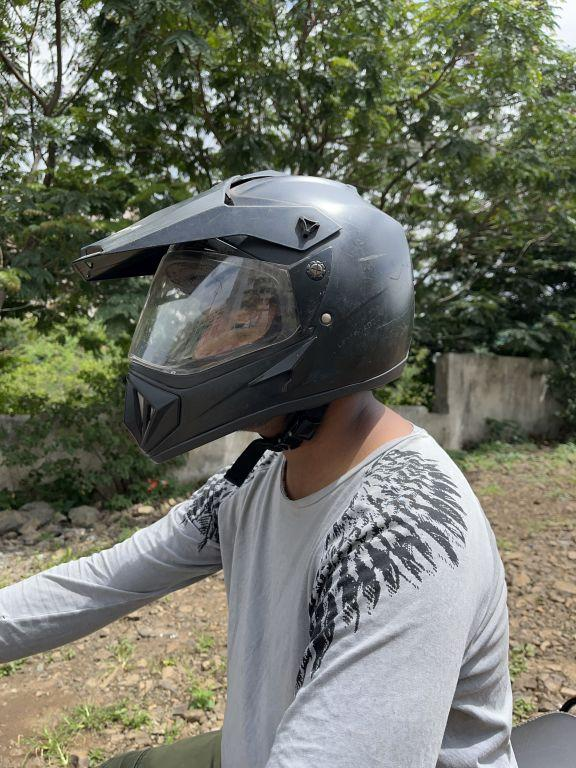helmet: (72, 115, 417, 470)
